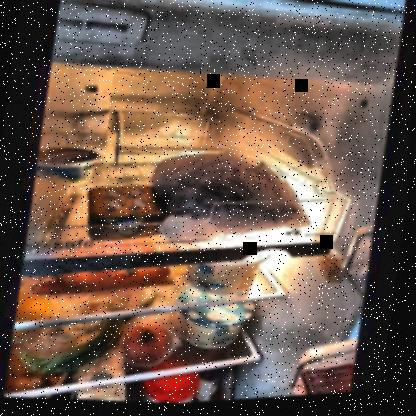butter: (84, 183, 172, 244)
carrot: (44, 259, 176, 300)
cheese: (27, 178, 75, 242)
green_chillies: (17, 323, 116, 377)
milk: (80, 367, 140, 405)
tomato: (121, 323, 177, 368)
yoghurt: (178, 297, 254, 355), (187, 258, 264, 300), (35, 140, 101, 184)
